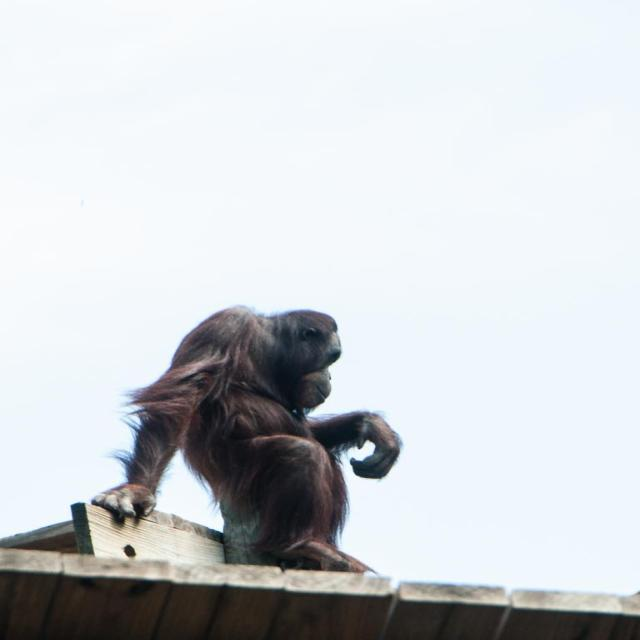Monkey: (92, 306, 401, 571)
